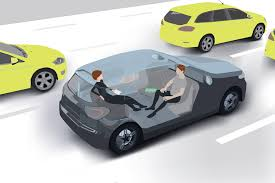car: (157, 1, 272, 51)
